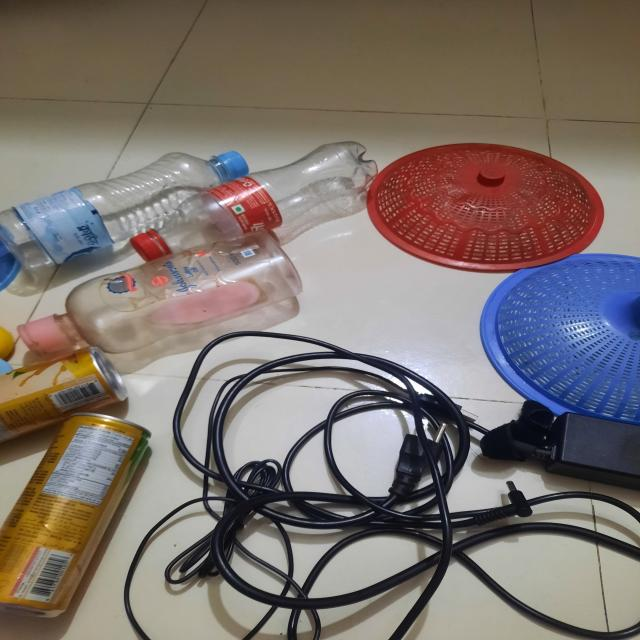Cable: (154, 322, 535, 640)
Plastics: (6, 141, 376, 322), (375, 125, 640, 371), (0, 314, 148, 639)
